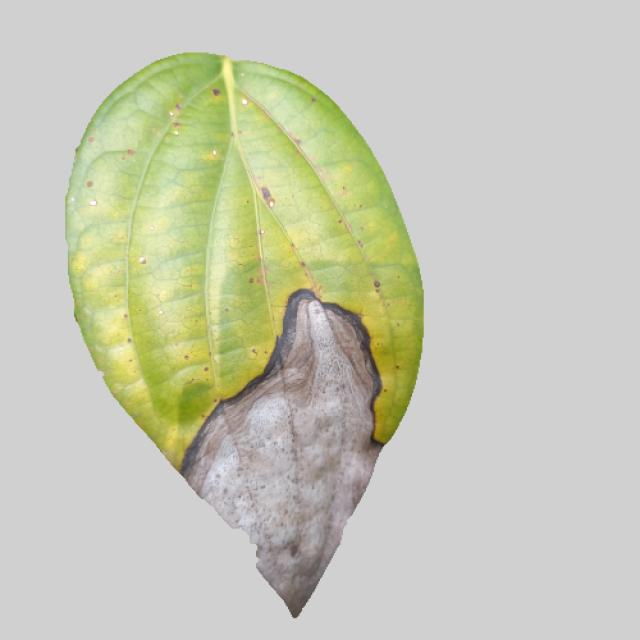leaf-blight: (69, 52, 430, 629)
